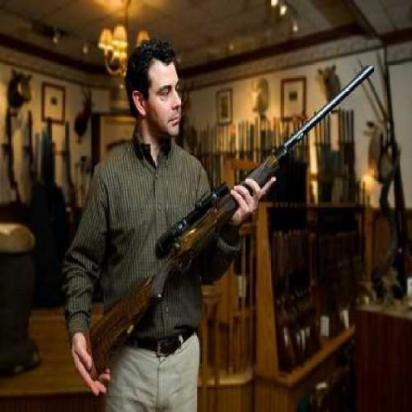Gun: (84, 45, 378, 378)
